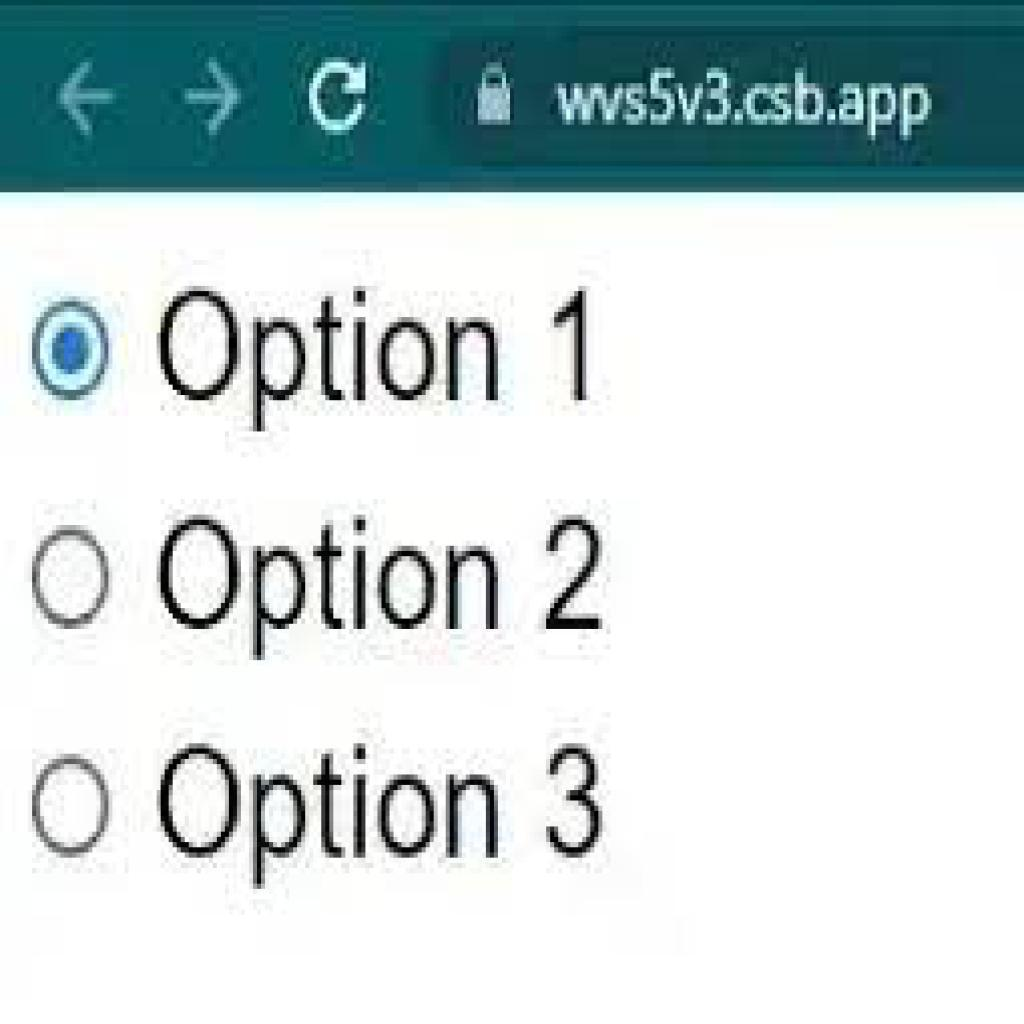radio: (27, 290, 119, 408), (27, 749, 115, 872), (27, 525, 119, 639)
